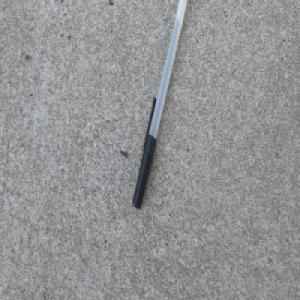Pen: (131, 0, 189, 210)
